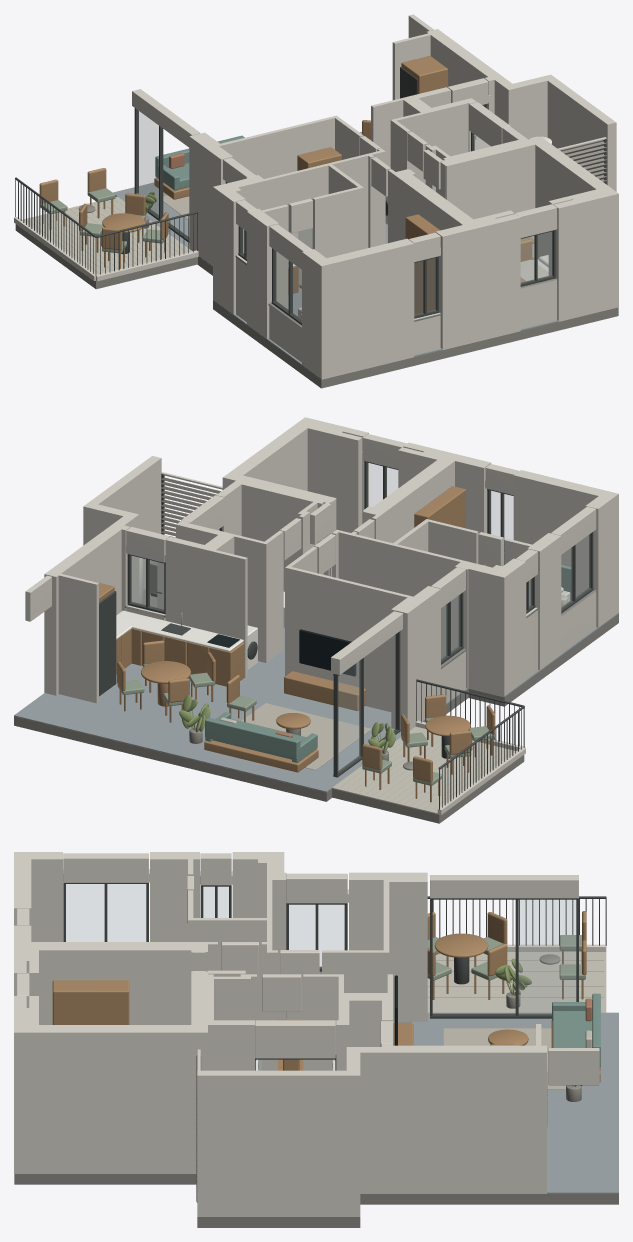
File: type-b.glb
3 views of the same model, one above another, from view 1: azimuth 30°, elevation 25°; view 2: azimuth 150°, elevation 25°; view 3: azimuth 270°, elevation 25° (orthographic). The views are drawn at different scales.
Parts seen in each view (by area): view 1: B PDF wall 340, B PDF wall 345, B PDF wall 343, B PDF wall 344, B PDF wall 341, B PDF wall 346, B PDF wall 342, Balcony deck, B PDF wall 347, B structural slab, B stone floor, Living sliders | glazing (+25 smaller); view 2: B PDF wall 344, B stone floor, B PDF wall 346, B PDF wall 341, B PDF wall 340, B PDF wall 342, B PDF wall 345, B PDF wall 343, Balcony deck, B structural slab, B PDF wall 347, Living rug (+37 smaller); view 3: B PDF wall 341, B PDF wall 340, B PDF wall 343, B stone floor, B PDF wall 346, B PDF wall 344, Balcony deck, B structural slab, Living sliders | glazing, B PDF wall 342, Master west window | glazing, B PDF wall 345 (+21 smaller).
Boxes of the visible parts, x1,y1,x2,y2 form: B PDF wall 340: (425,126,618,321); B PDF wall 345: (302,238,414,379); B PDF wall 343: (388,169,520,349); B PDF wall 344: (213,148,385,314); B PDF wall 341: (392,29,616,191); B PDF wall 346: (189,115,363,265); B PDF wall 342: (371,87,476,183); Balcony deck: (22,196,191,274); B PDF wall 347: (247,204,288,338); B structural slab: (115,196,618,388); B stone floor: (113,131,558,379); Living sliders | glazing: (137,111,158,216); B PDF wall 344: (332,519,526,697); B stone floor: (14,588,618,792); B PDF wall 346: (285,546,440,730); B PDF wall 341: (44,456,161,703); B PDF wall 340: (216,417,368,591); B PDF wall 342: (165,520,283,678); B PDF wall 345: (513,470,618,627); B PDF wall 343: (363,442,491,565); Balcony deck: (332,726,516,814); B structural slab: (14,614,618,801); B PDF wall 347: (504,533,561,669); Living rug: (241,703,371,770); B PDF wall 341: (197,1024,546,1216); B PDF wall 340: (14,971,256,1173); B PDF wall 343: (14,925,217,1024); B stone floor: (258,1012,618,1193); B PDF wall 346: (322,872,427,1021); B PDF wall 344: (188,852,286,1070); Balcony deck: (427,952,606,1012); B structural slab: (14,1174,618,1227); Living sliders | glazing: (519,900,575,1014); B PDF wall 342: (303,974,392,1070); Master west window | glazing: (66,884,145,941); B PDF wall 345: (14,852,62,941).
Size of the model in its own units: 11.51 by 3.07 by 11.06.
